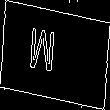M_S: (40, 27, 70, 83)
